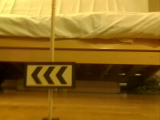left: (25, 62, 75, 87)
